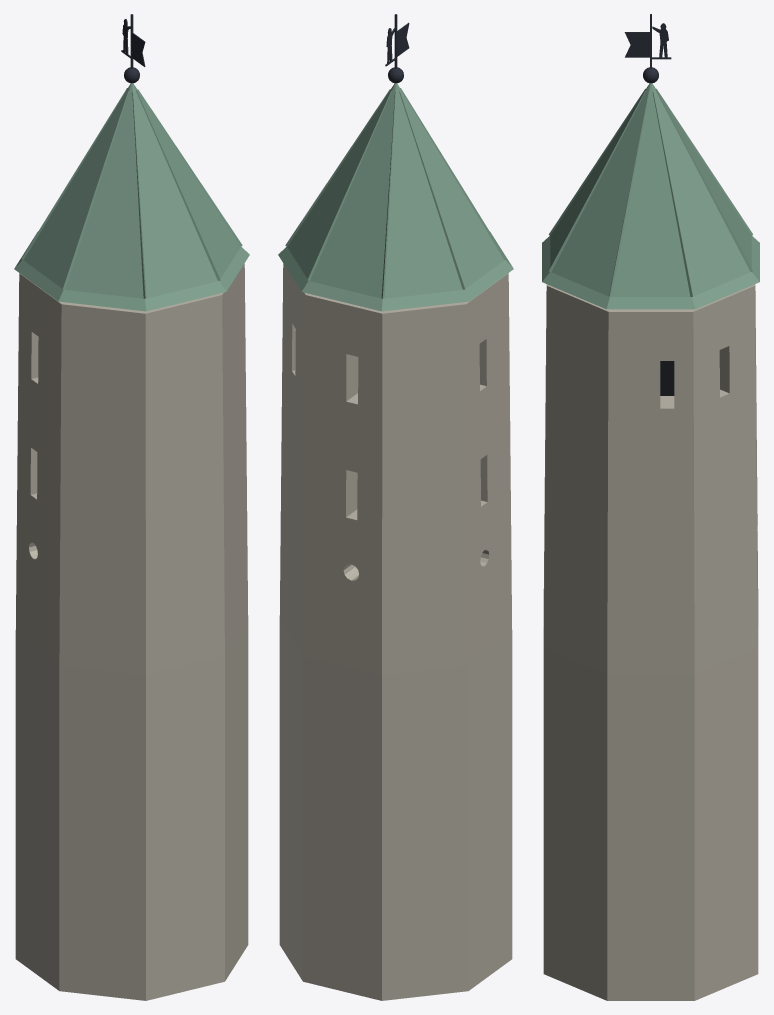
Rendered from SM_Dovmontova.glb.
3 renders of one model, left to right at view 1: azimuth 30°, elevation 25°; view 2: azimuth 150°, elevation 25°; view 3: azimuth 270°, elevation 25°, orthographic.
Visible parts, largest first — view 1: SM_Dovmontova; view 2: SM_Dovmontova; view 3: SM_Dovmontova.
Part boxes in pixels (x1,y1,x2,y2): SM_Dovmontova: (14,14,249,1000); SM_Dovmontova: (278,14,513,1000); SM_Dovmontova: (542,14,759,1000).
Size of the model in its own units: 6.77 by 31.65 by 6.65.
